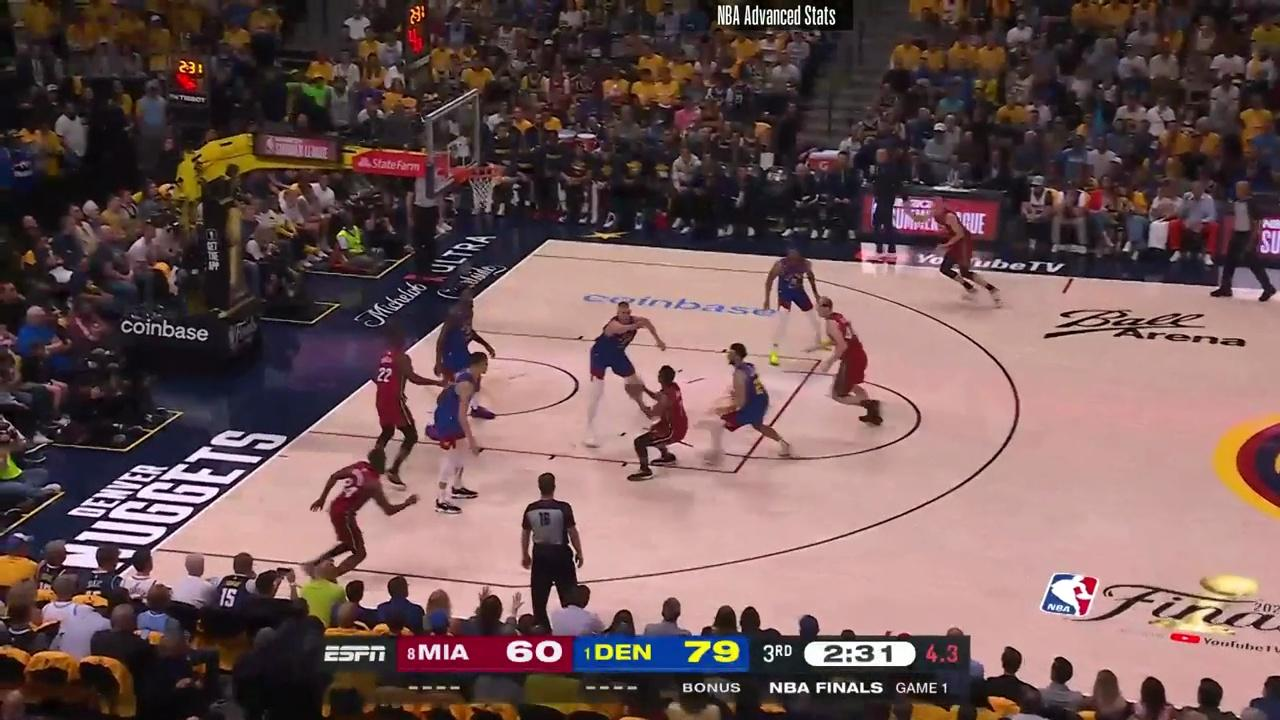Backboard: (432, 87, 487, 197)
Ball: (621, 374, 647, 400)
Basket: (468, 169, 499, 212)
Person: (307, 449, 400, 585), (579, 297, 664, 445), (360, 329, 431, 501), (424, 344, 490, 513), (816, 302, 897, 436), (915, 194, 1004, 311), (709, 345, 793, 467), (627, 360, 700, 480), (763, 240, 823, 368), (426, 282, 490, 385)
Referee: (522, 474, 596, 613), (1214, 182, 1269, 306), (1231, 212, 1280, 306), (498, 172, 541, 252)
Shot Clock: (164, 51, 214, 120), (399, 4, 437, 91)
